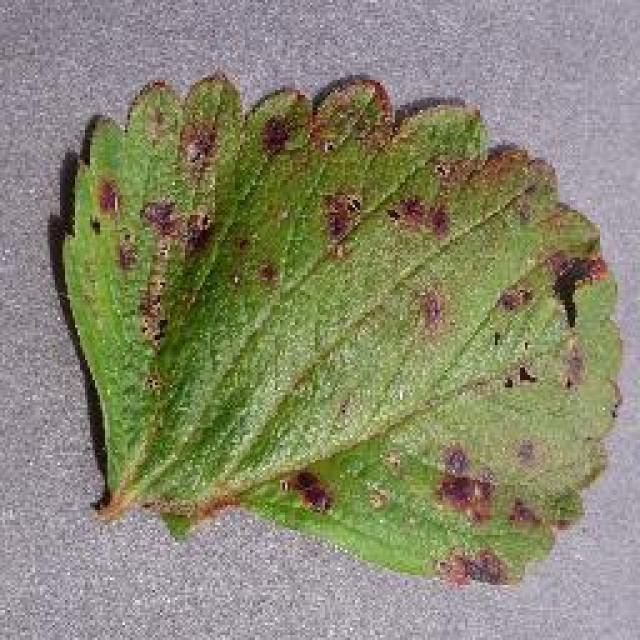Strawberry leaf scorch: (90, 120, 590, 548)
